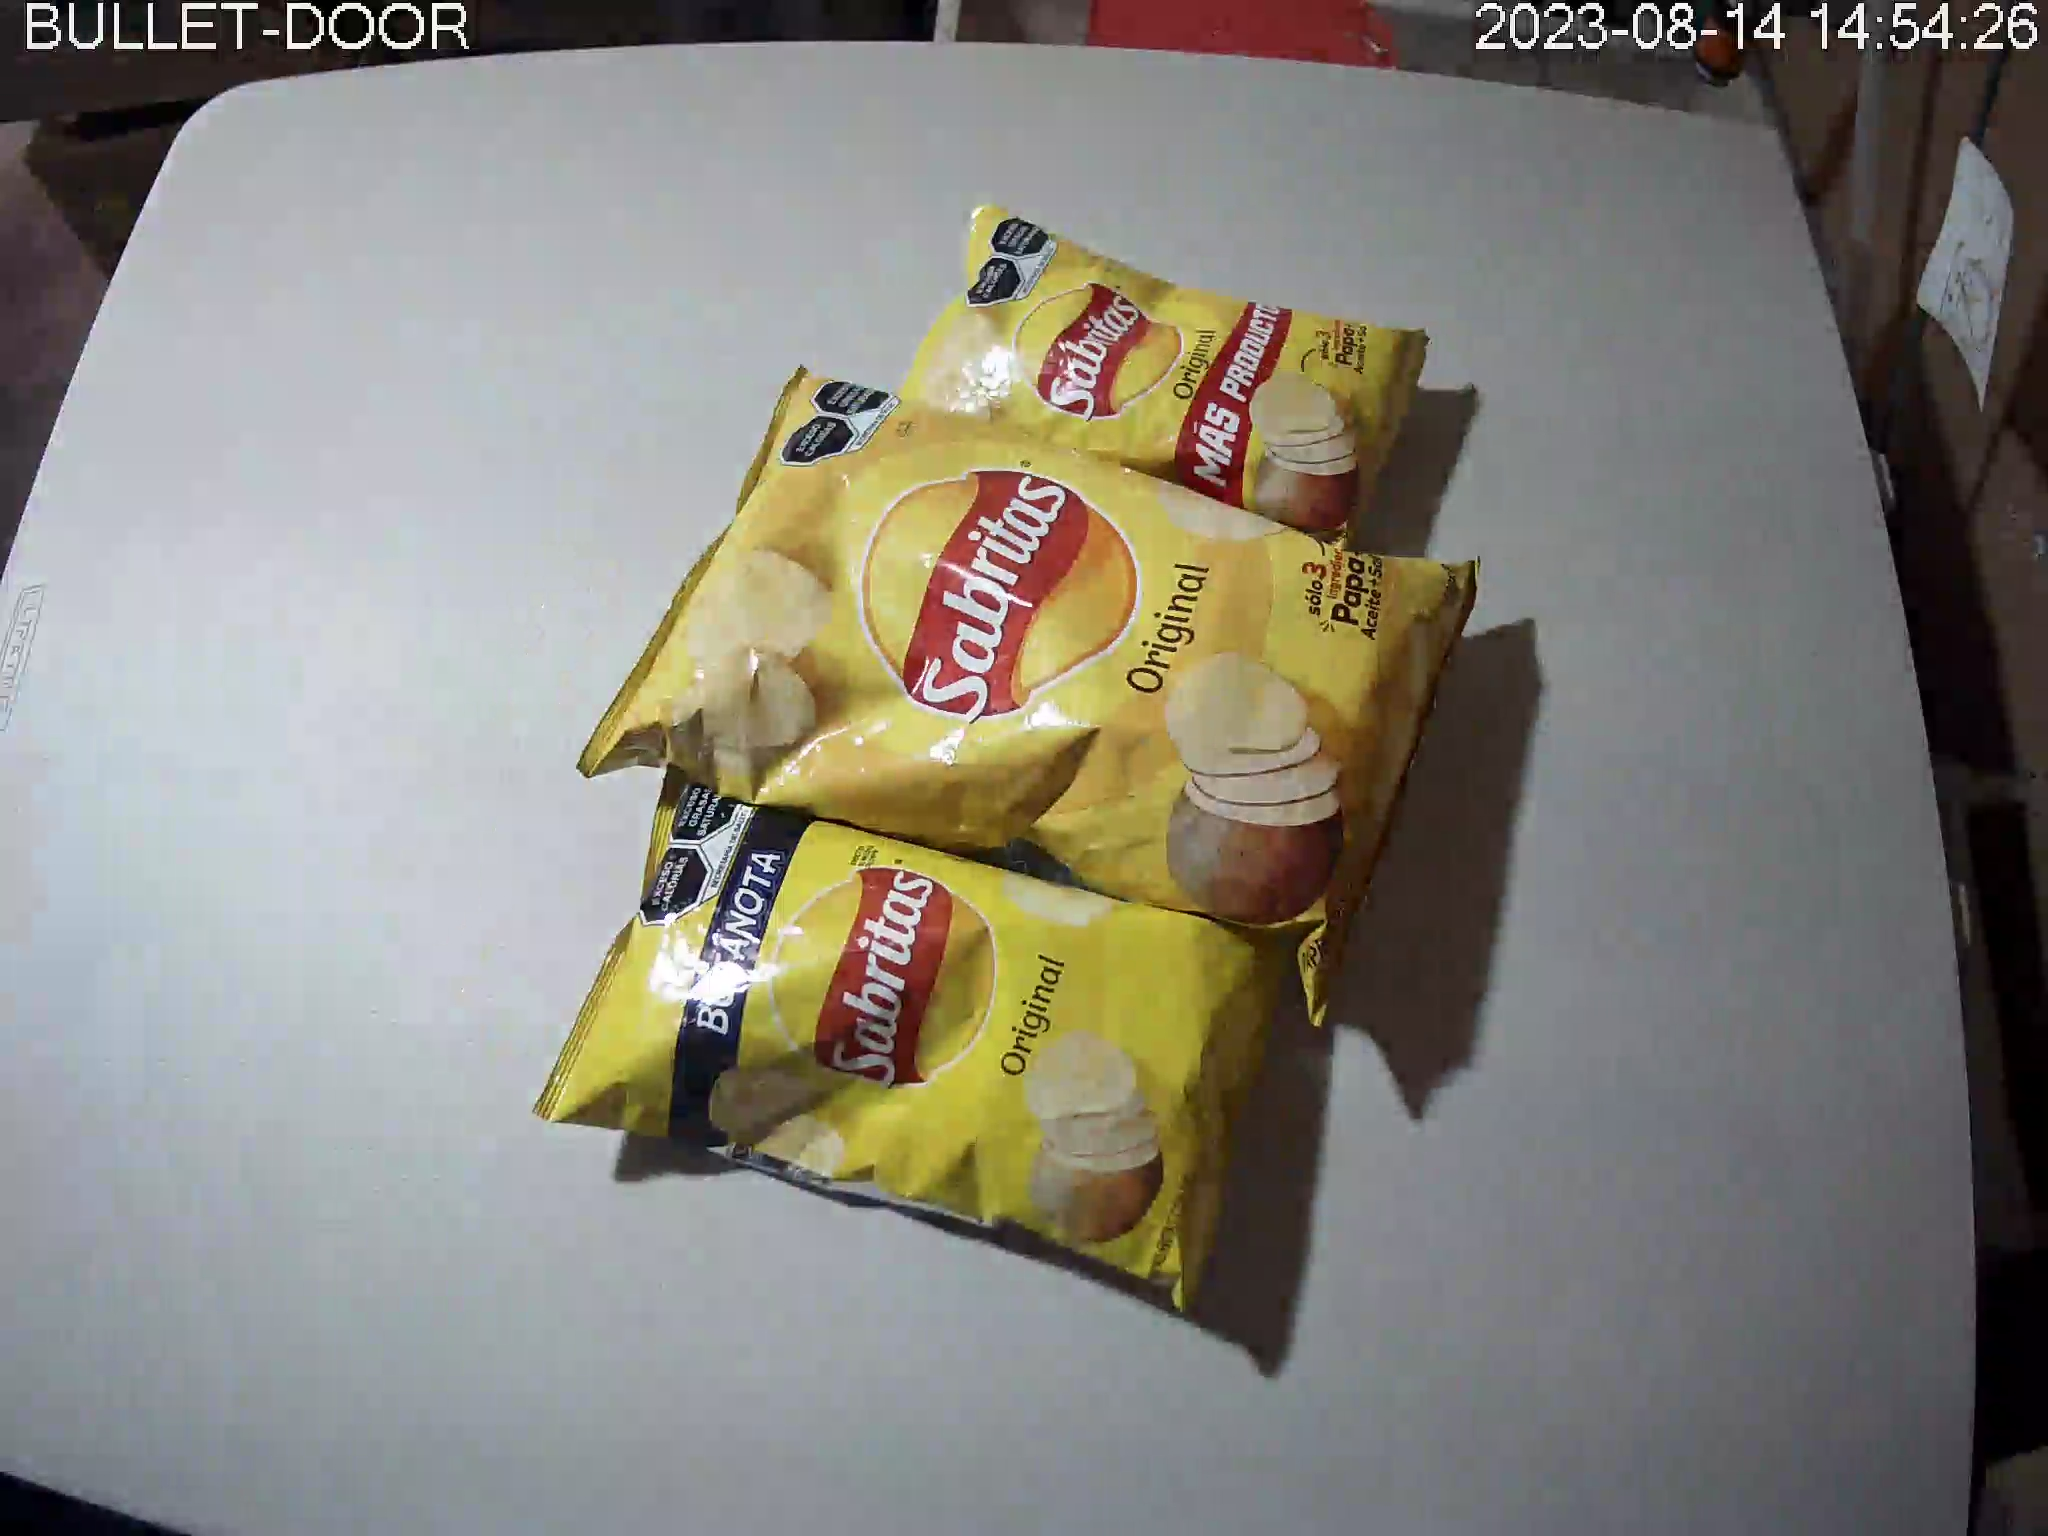Sabritas_160_F: (576, 361, 1485, 1031)
Sabritas_45_F: (884, 203, 1432, 570)
Sabritas_64_F: (531, 747, 1308, 1312)
